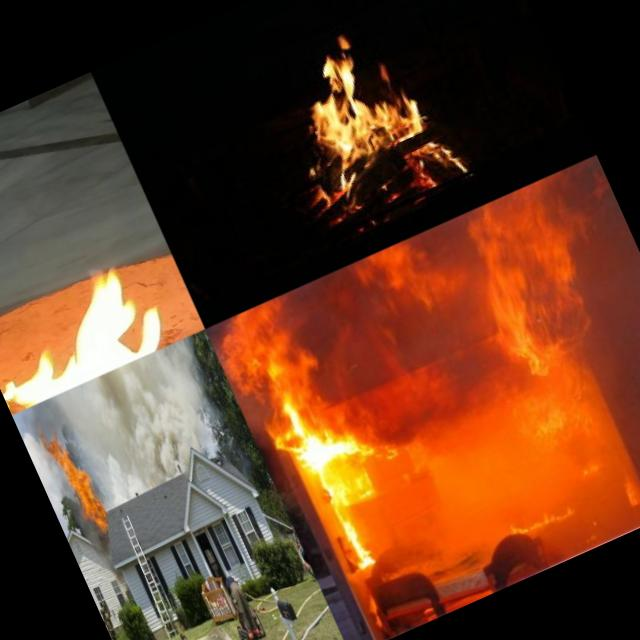fire: (241, 230, 640, 586), (248, 0, 481, 245), (0, 234, 198, 414), (39, 421, 115, 542)
smoke: (56, 342, 235, 511)
